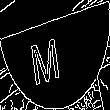M_N: (38, 25, 72, 85)
